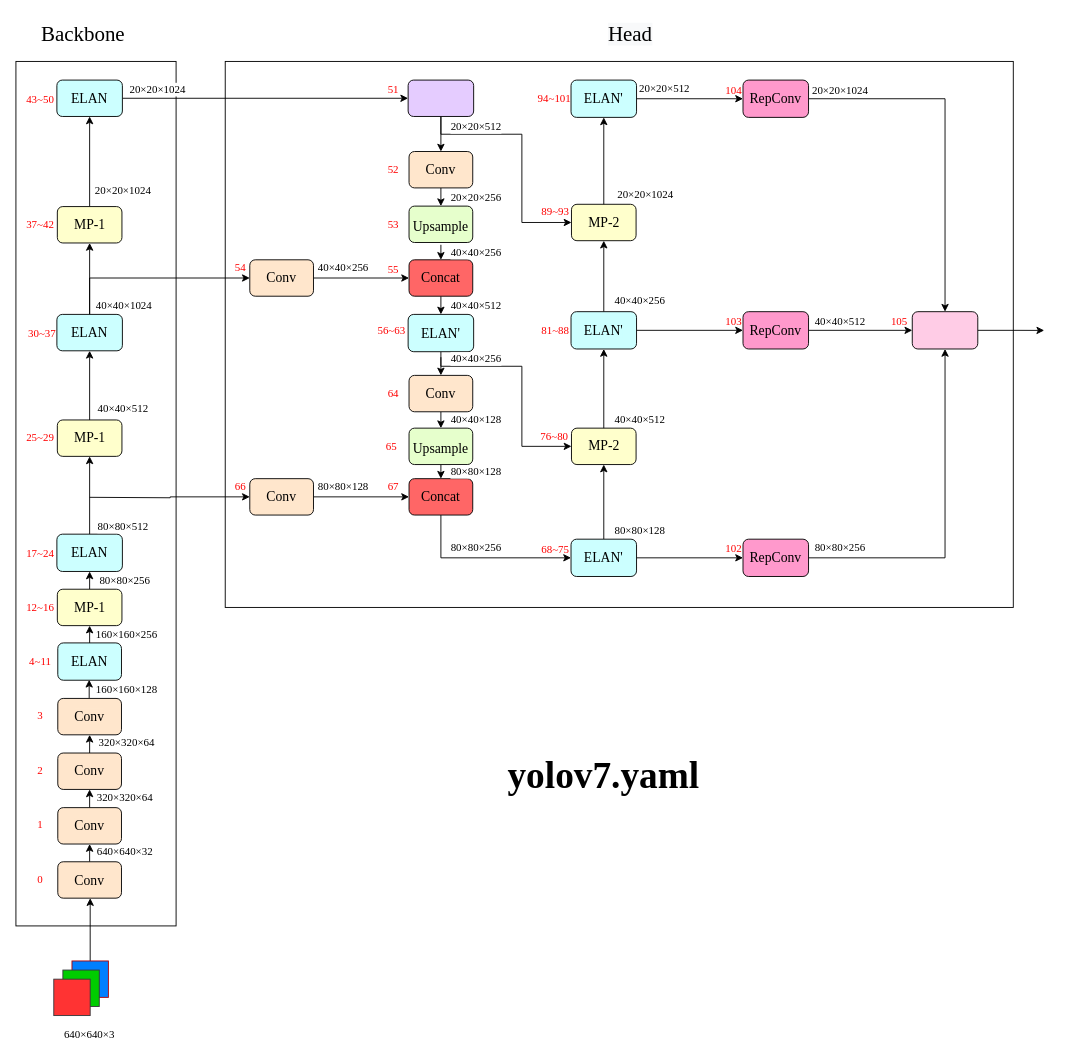
Image size: 1067x1064. Some labels were removed from this diagram. Each missing label, with the centre of its shape:
Detect: (944,330)
SPPCSPC: (440,97)
